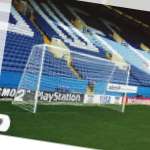goals: (11, 43, 131, 114)
